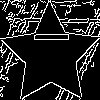I: (25, 30, 69, 45)
